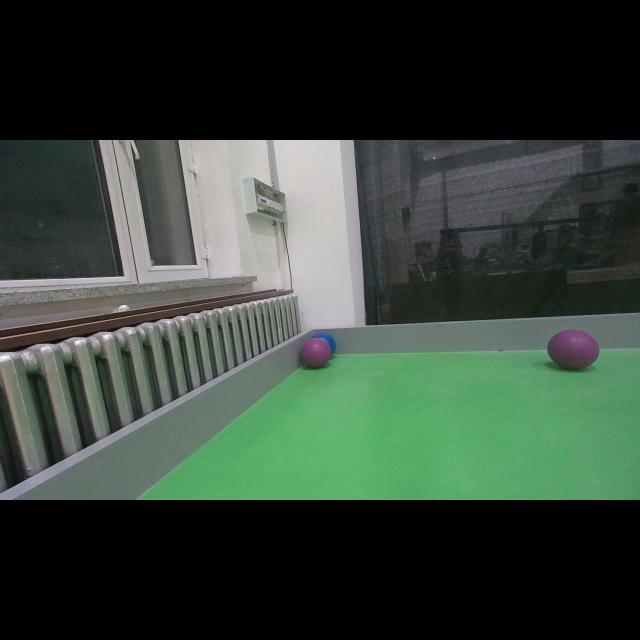B: (310, 332, 336, 356)
P: (546, 329, 600, 369), (300, 338, 330, 368)
